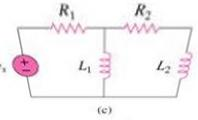inductor: (94, 46, 115, 84), (172, 49, 193, 81)
